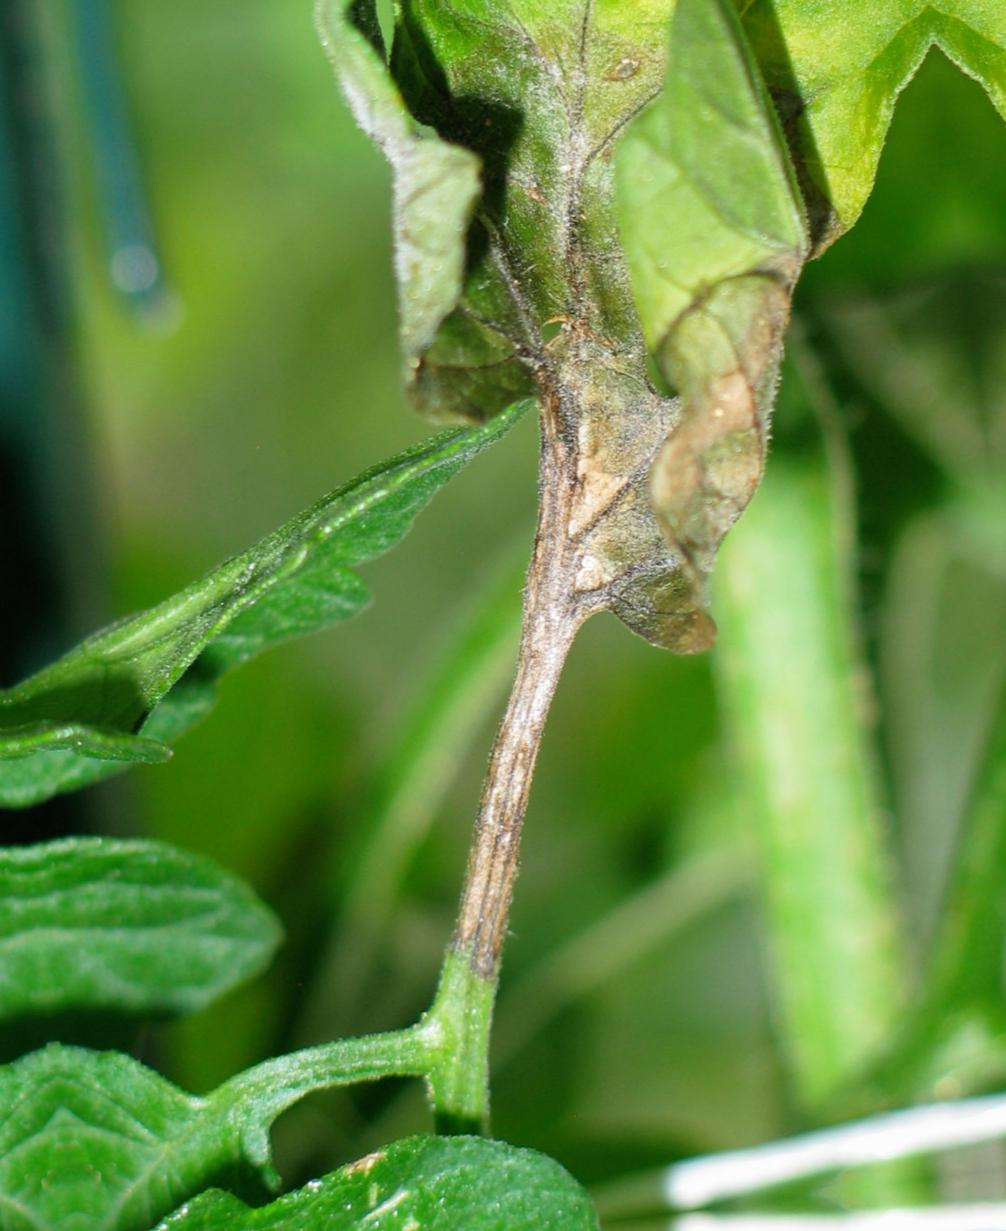Tomato leaf late blight: (290, 0, 1006, 745)
